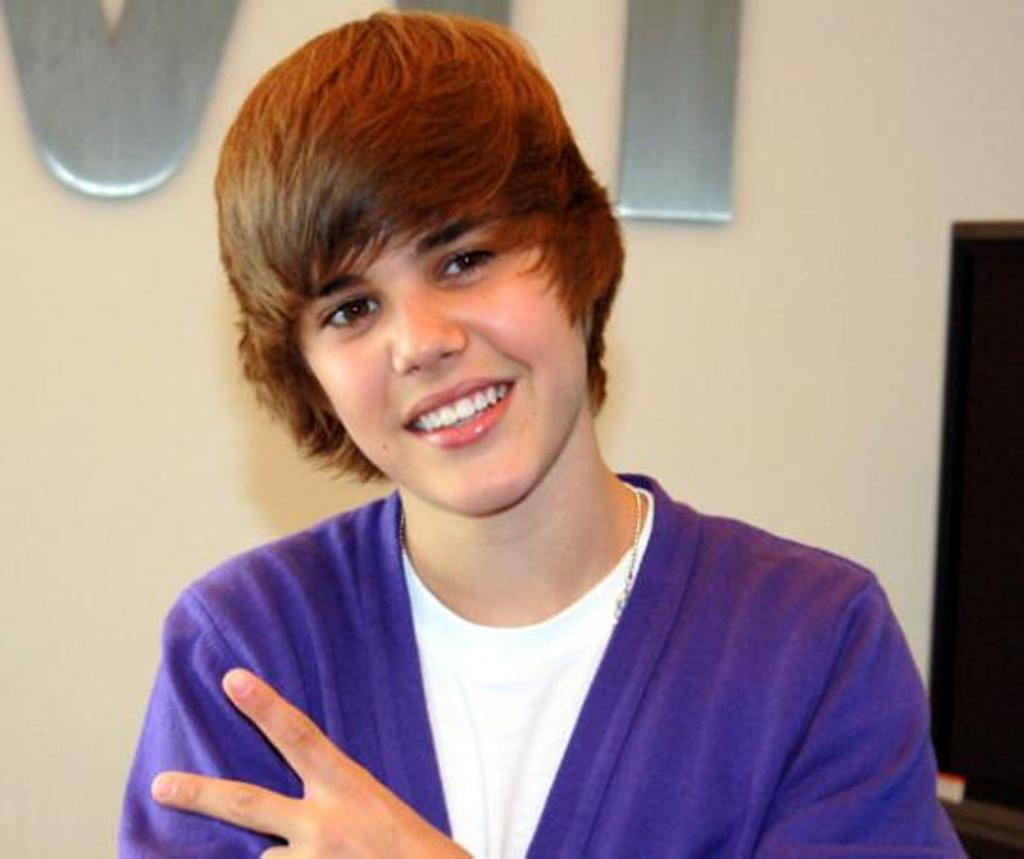face: (286, 112, 586, 506)
